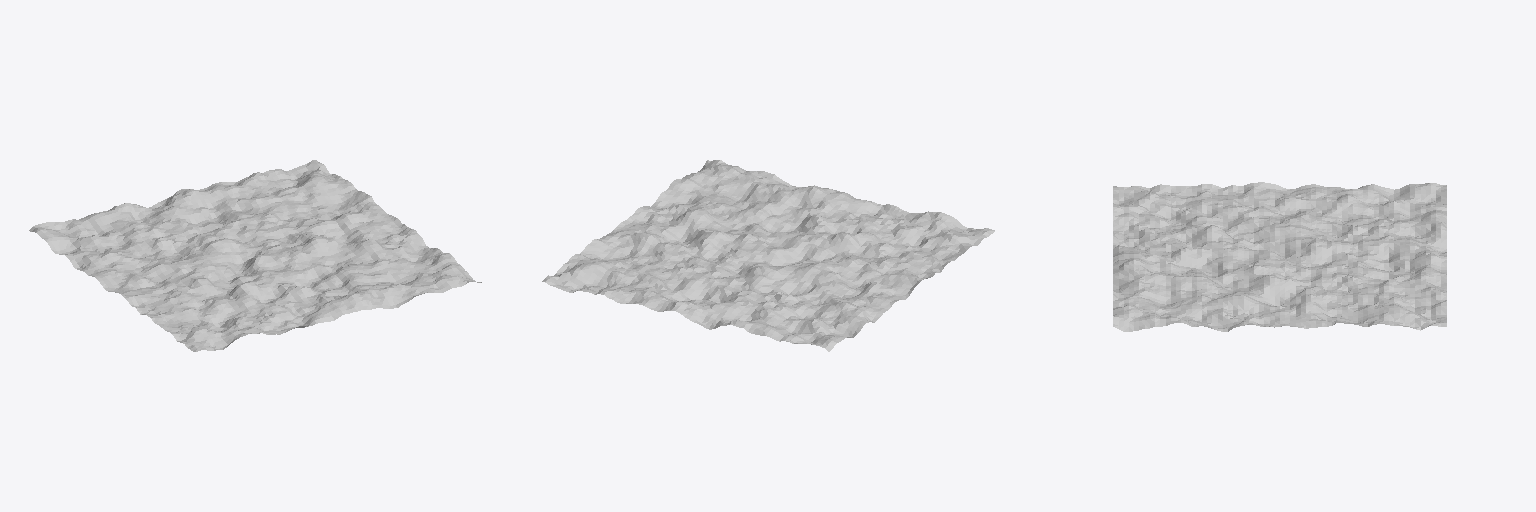
Rendered from underwater.obj.
3 renders of one model, left to right at view 1: azimuth 30°, elevation 25°; view 2: azimuth 150°, elevation 25°; view 3: azimuth 270°, elevation 25°, orthographic.
Parts seen in each view (by area): view 1: Plane.000; view 2: Plane.000; view 3: Plane.000.
Boxes of the visible parts, x1=… form: Plane.000: x1=29, y1=160, x2=481, y2=351; Plane.000: x1=542, y1=160, x2=994, y2=351; Plane.000: x1=1113, y1=182, x2=1446, y2=331.
Size of the model in its own units: 82.09 by 4.91 by 82.09.